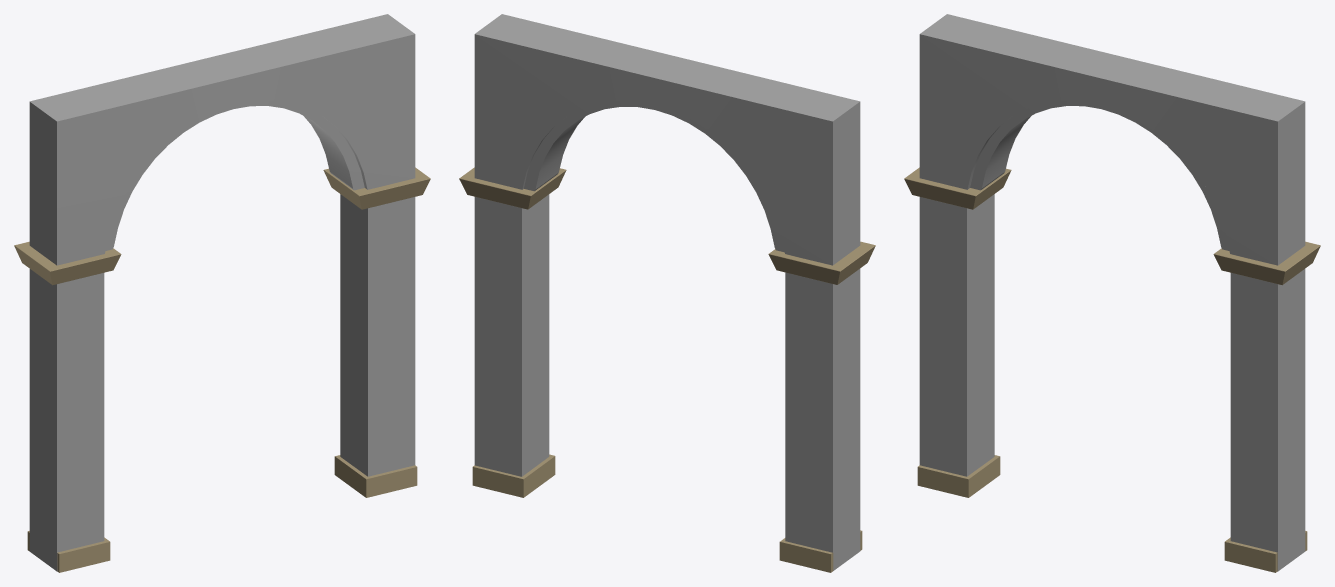
File: SM_OpenWall.fbx
3 renders of one model, left to right at view 1: azimuth 30°, elevation 25°; view 2: azimuth 150°, elevation 25°; view 3: azimuth 330°, elevation 25°, orthographic.
Parts seen in each view (by area): view 1: SM_Openwall2; view 2: SM_Openwall2; view 3: SM_Openwall2.
Boxes of the visible parts, x1,y1,x2,y2 form: SM_Openwall2: (14,14,430,572); SM_Openwall2: (459,14,875,572); SM_Openwall2: (904,14,1320,572).
Bounding box in the file's own units: 320 × 361 × 51.97.
